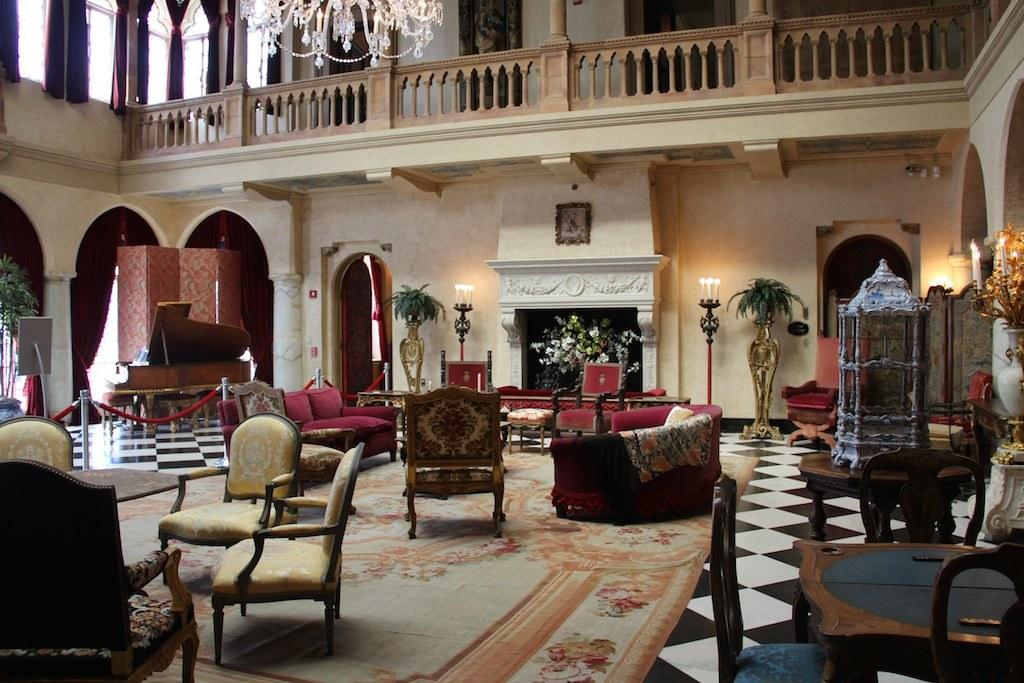Chair: (0, 456, 204, 682), (705, 469, 877, 682), (207, 440, 366, 663), (156, 412, 301, 583), (380, 383, 520, 544), (231, 379, 360, 517), (930, 533, 1023, 682), (860, 441, 990, 545), (546, 357, 623, 441), (0, 413, 74, 474), (438, 344, 493, 392)
